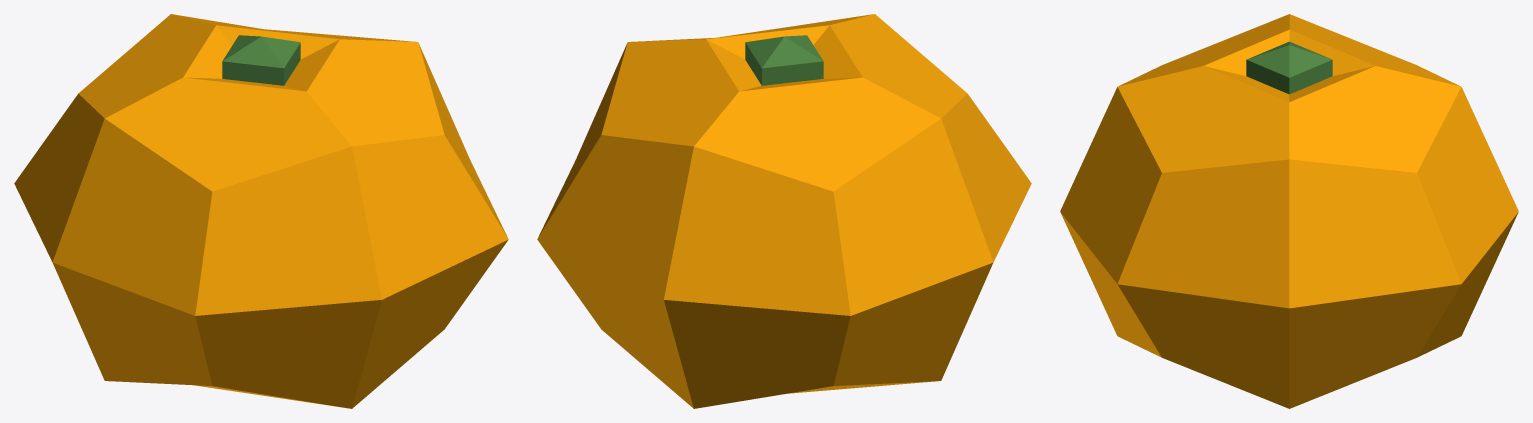
The model's file is Citrus.fbx.
The picture shows the model from 3 angles, left to right: view 1: azimuth 30°, elevation 25°; view 2: azimuth 150°, elevation 25°; view 3: azimuth 270°, elevation 25°; orthographic projection. The views are drawn at different scales.
Visible parts, largest first — view 1: Cube, Cube.002; view 2: Cube, Cube.002; view 3: Cube, Cube.002.
Part boxes in pixels (<box>): Cube: <box>14,14,508,408</box>; Cube.002: <box>222,35,300,85</box>; Cube: <box>537,14,1031,408</box>; Cube.002: <box>745,35,823,85</box>; Cube: <box>1060,14,1518,408</box>; Cube.002: <box>1246,41,1332,94</box>.
Bounding box in the file's own units: 375 × 281 × 375.
